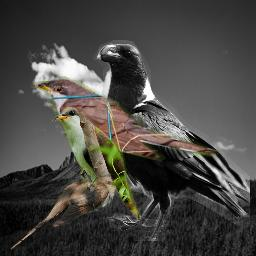Crow: (92, 40, 250, 241)
Cuckoo: (31, 74, 222, 167), (51, 107, 146, 221), (10, 175, 126, 250)
